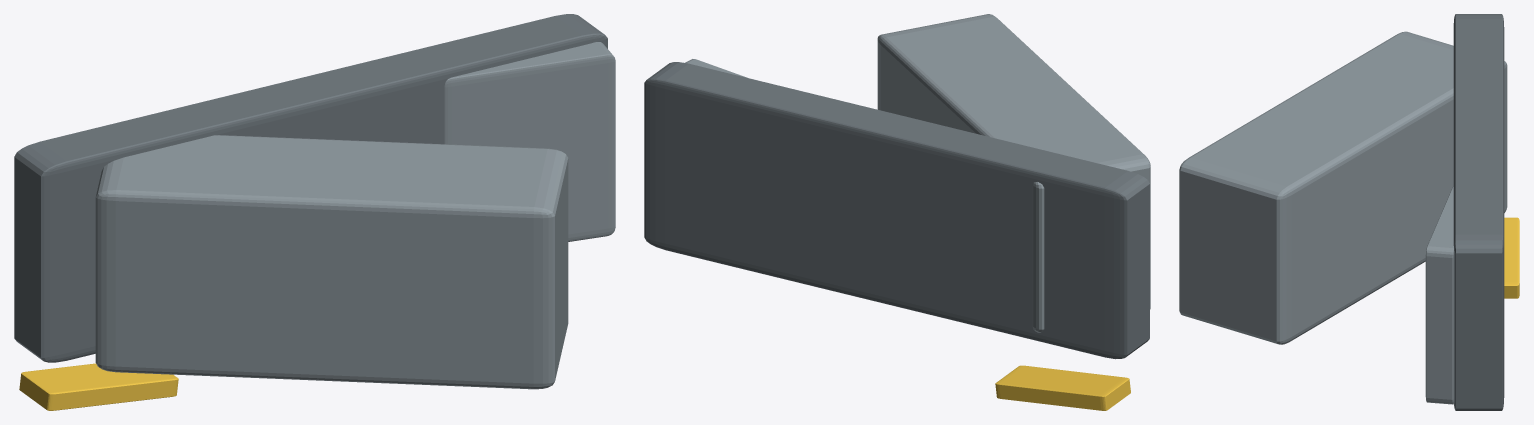
Rendered from s-x05-specter-strategic-lod2.glb.
The picture shows the model from 3 angles, left to right: view 1: azimuth 30°, elevation 25°; view 2: azimuth 150°, elevation 25°; view 3: azimuth 270°, elevation 25°; orthographic projection. The views are drawn at different scales.
Parts seen in each view (by area): view 1: strategic_canister, strategic_lower, strategic_nose, strategic_jack_-1; view 2: strategic_lower, strategic_canister, strategic_jack_-1; view 3: strategic_canister, strategic_lower, strategic_nose, strategic_jack_-1.
Part boxes in pixels (bbox=[...]): strategic_canister: bbox=[95, 135, 568, 389]; strategic_lower: bbox=[14, 14, 607, 362]; strategic_nose: bbox=[444, 42, 615, 241]; strategic_jack_-1: bbox=[19, 363, 178, 410]; strategic_lower: bbox=[644, 62, 1149, 359]; strategic_canister: bbox=[877, 14, 1150, 332]; strategic_jack_-1: bbox=[995, 365, 1130, 410]; strategic_canister: bbox=[1179, 31, 1507, 344]; strategic_lower: bbox=[1453, 14, 1504, 410]; strategic_nose: bbox=[1425, 186, 1454, 404]; strategic_jack_-1: bbox=[1504, 217, 1519, 298].
Size of what is drawn, in the model's own units: 10.93 by 4.95 by 6.63.
